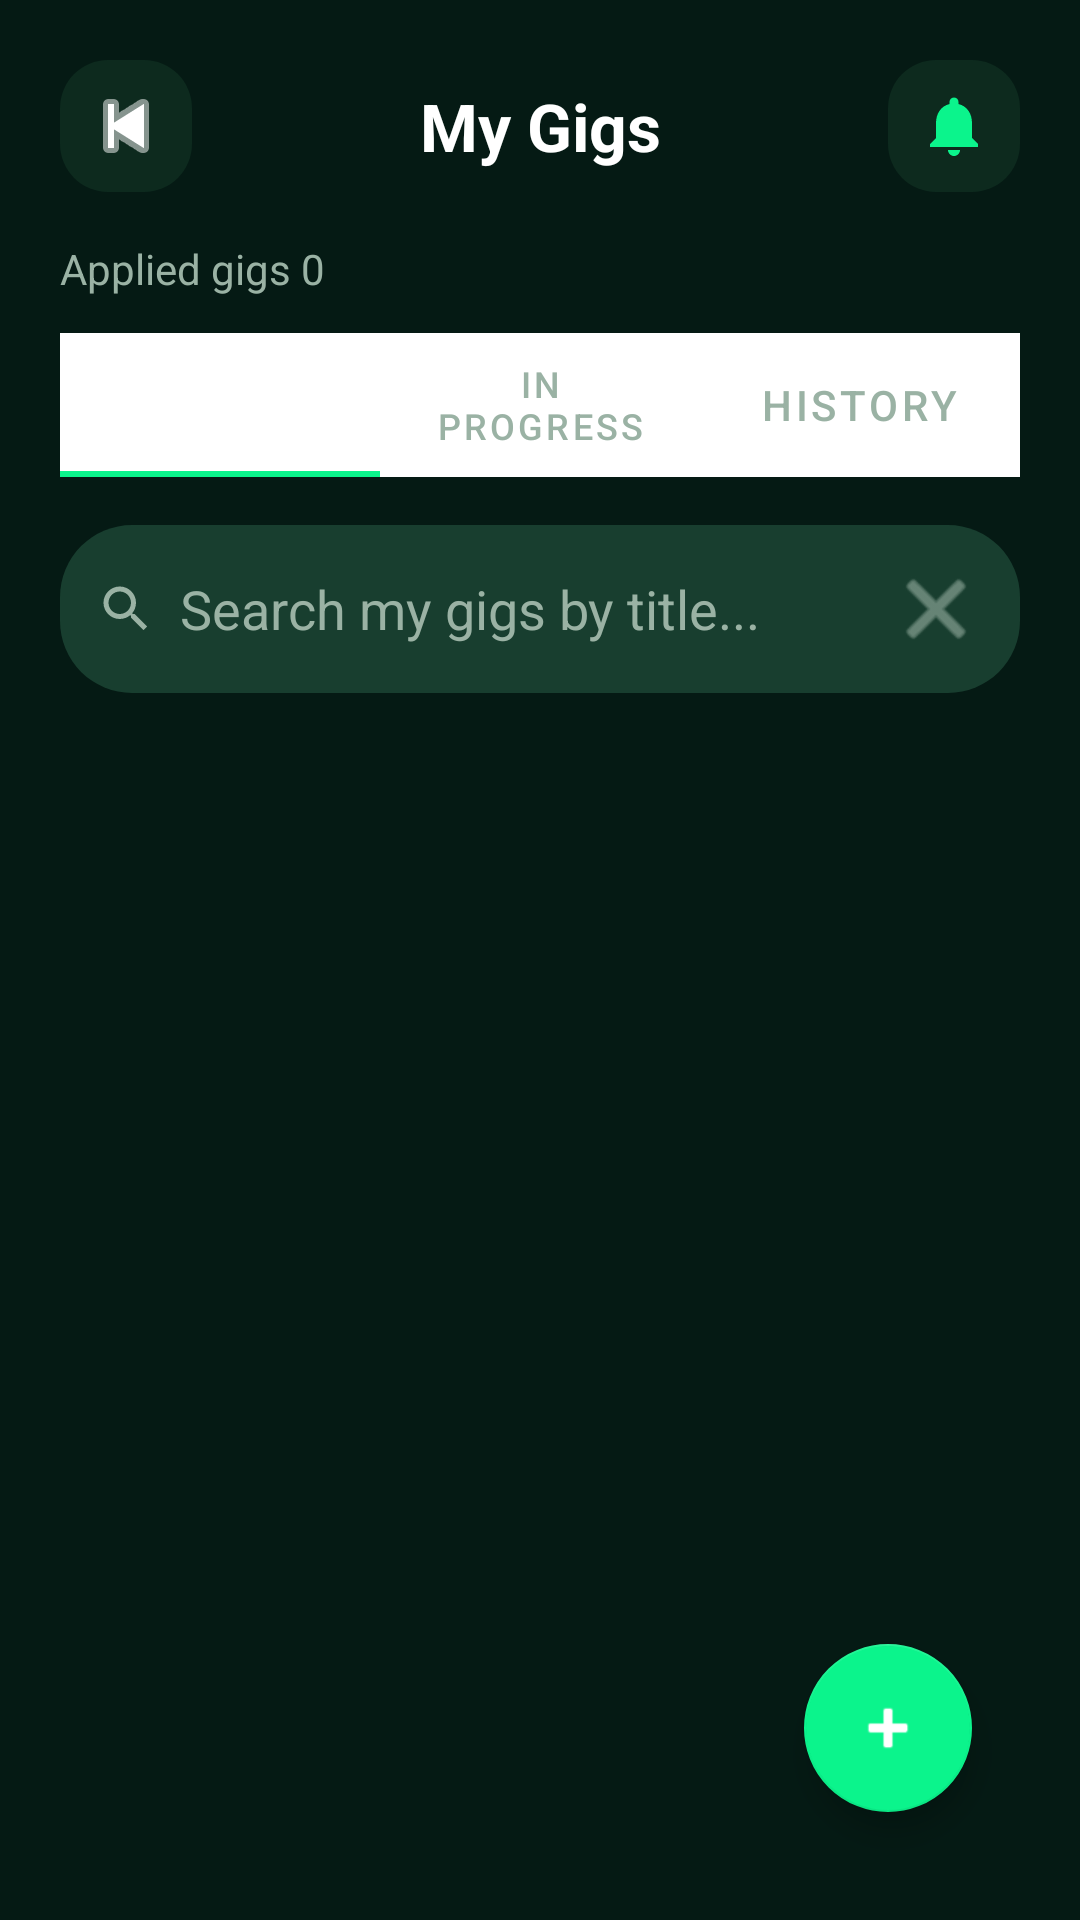

Icons on this 1080w x 1920h Android screen, each with its box as bbox(x1, y1, x2, y2):
Clear search: bbox(906, 579, 966, 639)
Notifications: bbox(930, 97, 978, 156)
Post a Gig: bbox(804, 1644, 972, 1812)
previous: bbox(103, 99, 149, 153)
